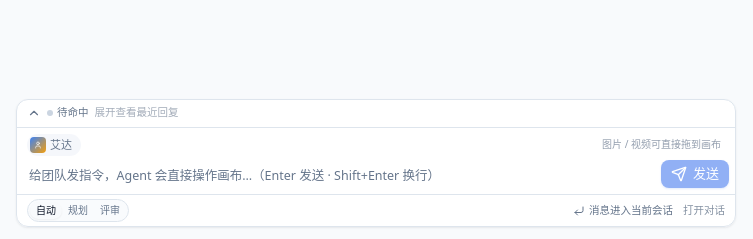
Test: M36：画布指令条（CanvasComposer） › 范式 chip「规划」：随下一条消息发送（mode=plan），发送后复位
Type "先出方案" into the text box. click: (376, 176)
box: [17, 158, 735, 194]
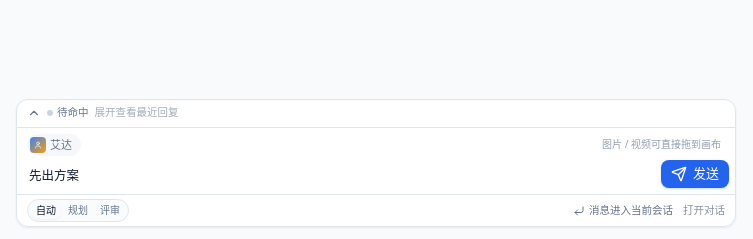
Click the button "规划". click: (78, 210)
box: [62, 202, 94, 219]
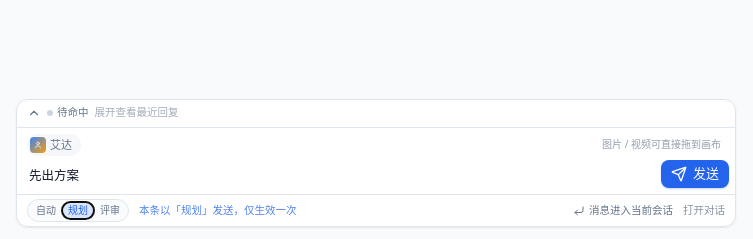
# 点击 chip 后焦点离开输入框：重新聚焦再 Enter 发送
Click the text box. click: (376, 176)
box: [17, 158, 735, 194]
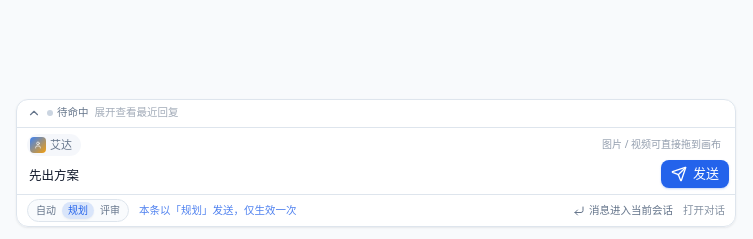
Press Enter
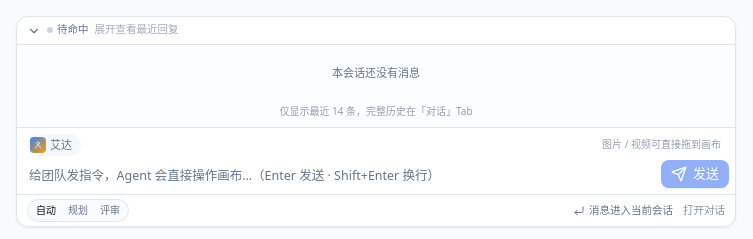
Now the text "本条以「规划」发送" is gone
